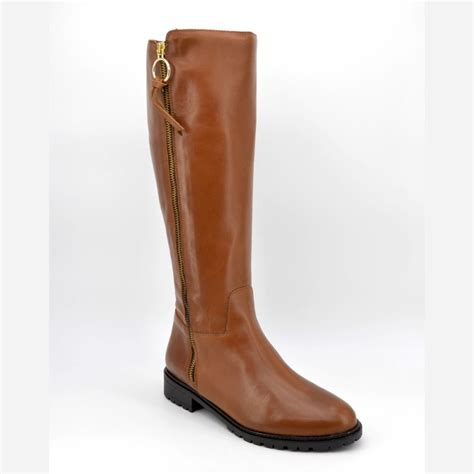cuero: (144, 28, 359, 439)
